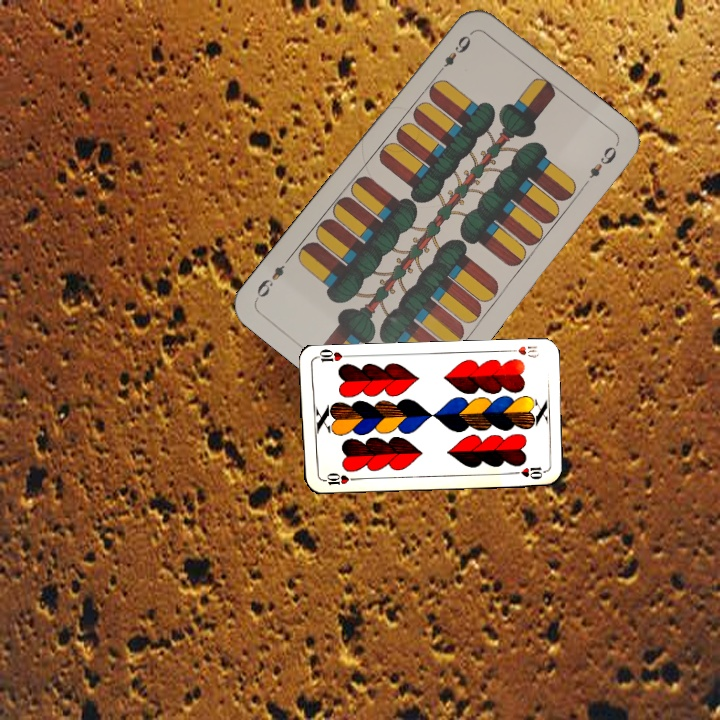E9: (434, 31, 474, 76)
H10: (502, 341, 541, 361), (317, 469, 358, 488)
